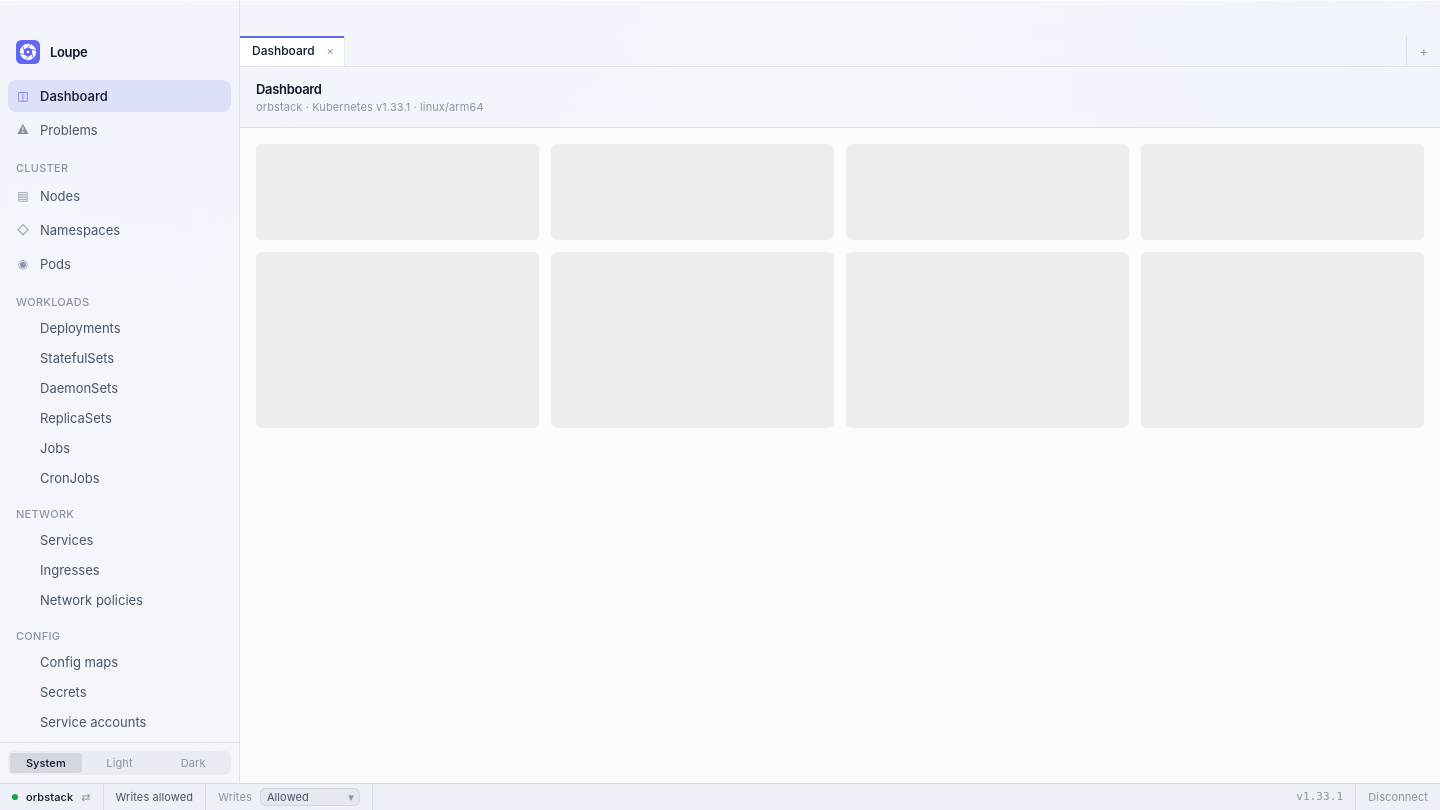
Test: App dashboard › comes back from the rail and from the palette
Expected: the heading "Dashboard" is shown, [256, 81, 322, 97]
Click the button "◉ Pods" at (120, 264), box [8, 248, 231, 280]
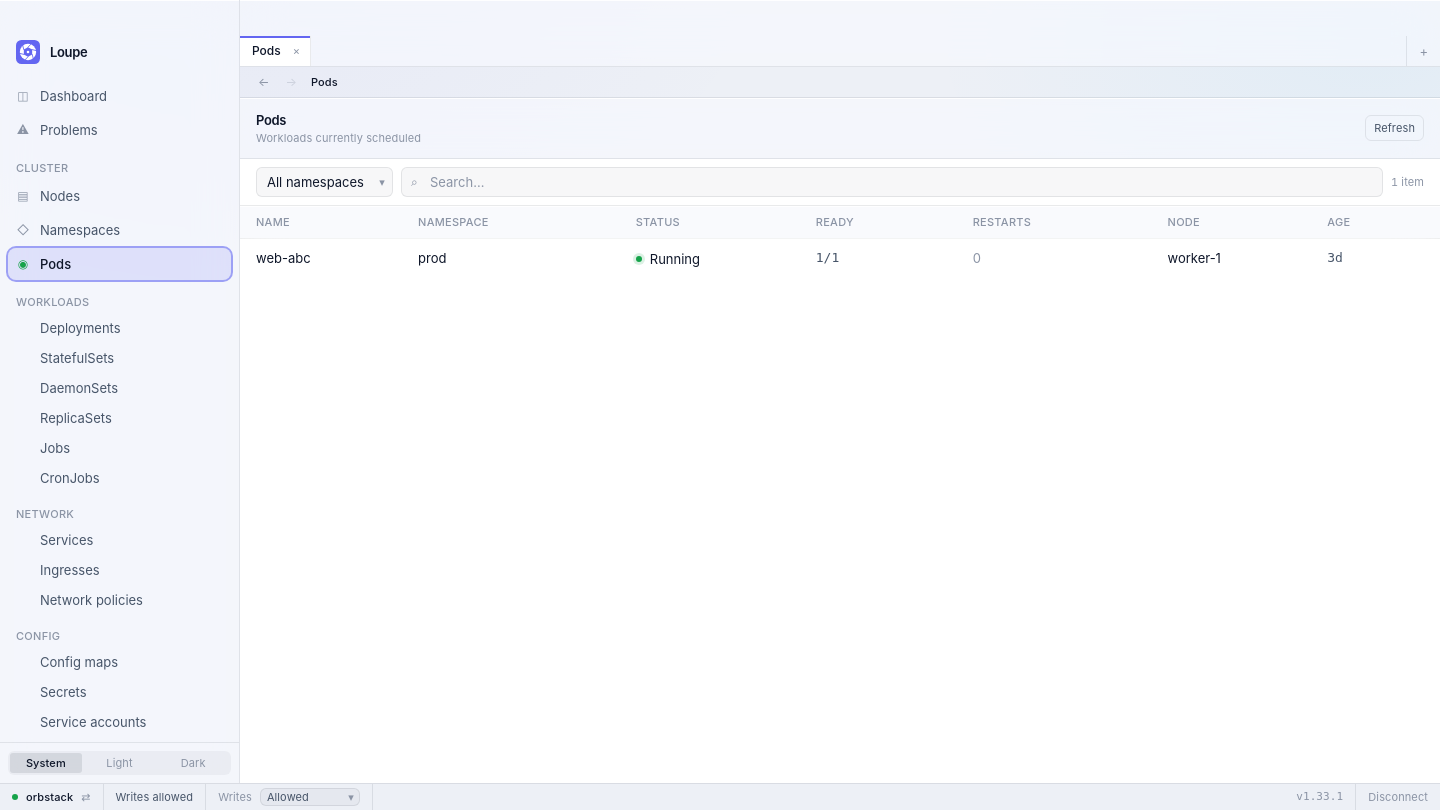
Now the heading "Pods" is shown, box [256, 112, 286, 128]
Click the button "◫ Dashboard" at (120, 96), box [8, 80, 231, 112]
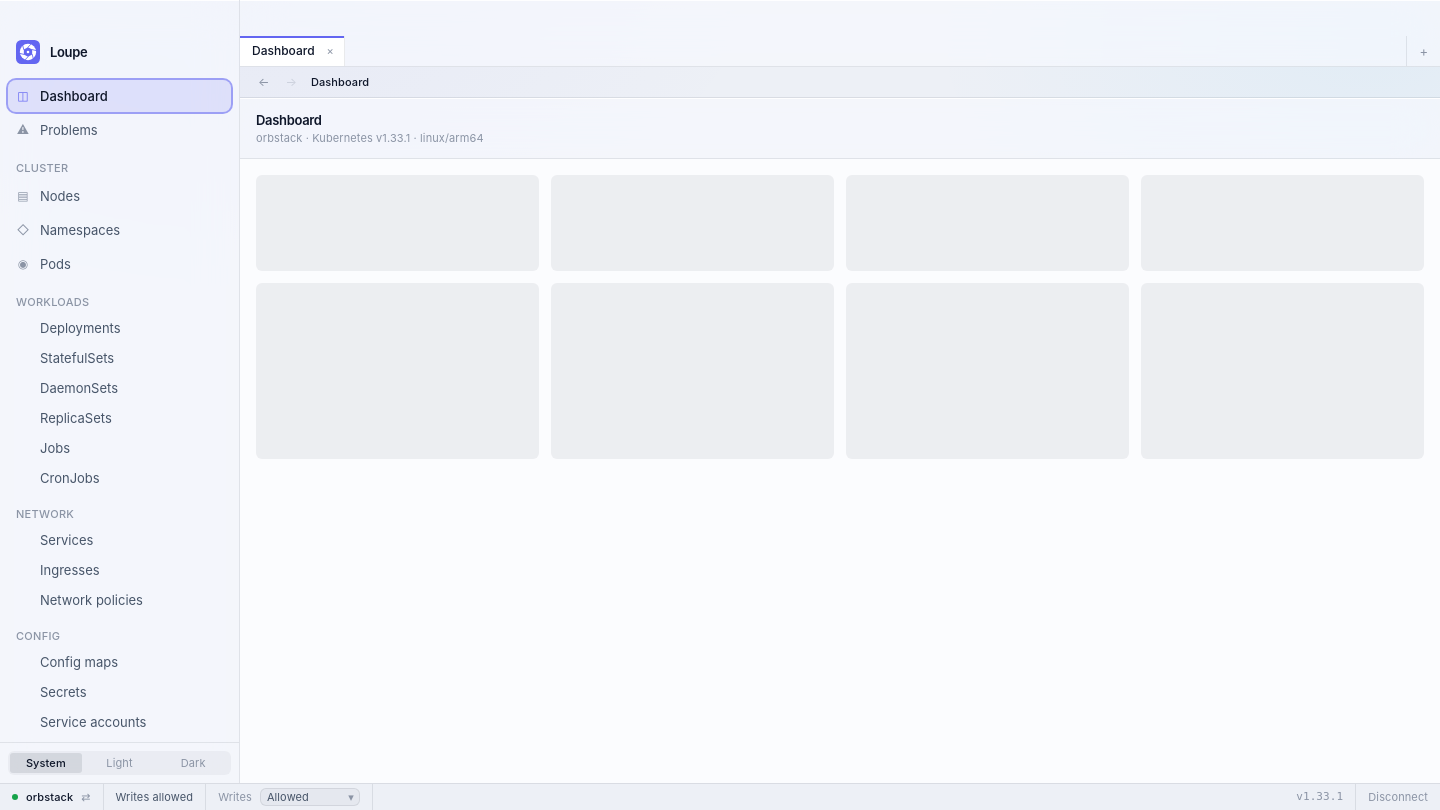
Now the heading "Dashboard" is shown, box [256, 112, 322, 128]
Click the button "◉ Pods" at (120, 264), box [8, 248, 231, 280]
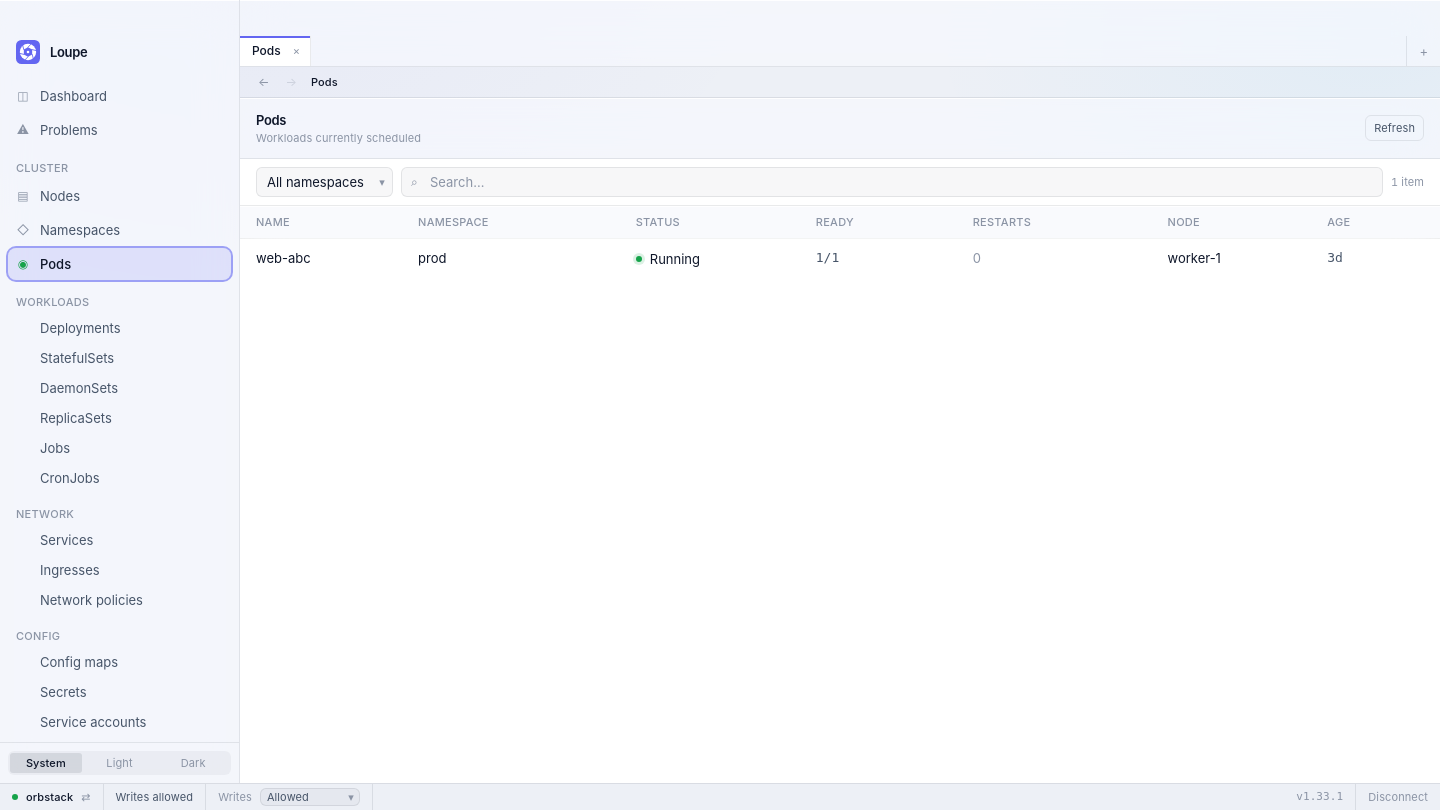
Type keys "{Meta>}k{/Meta}"
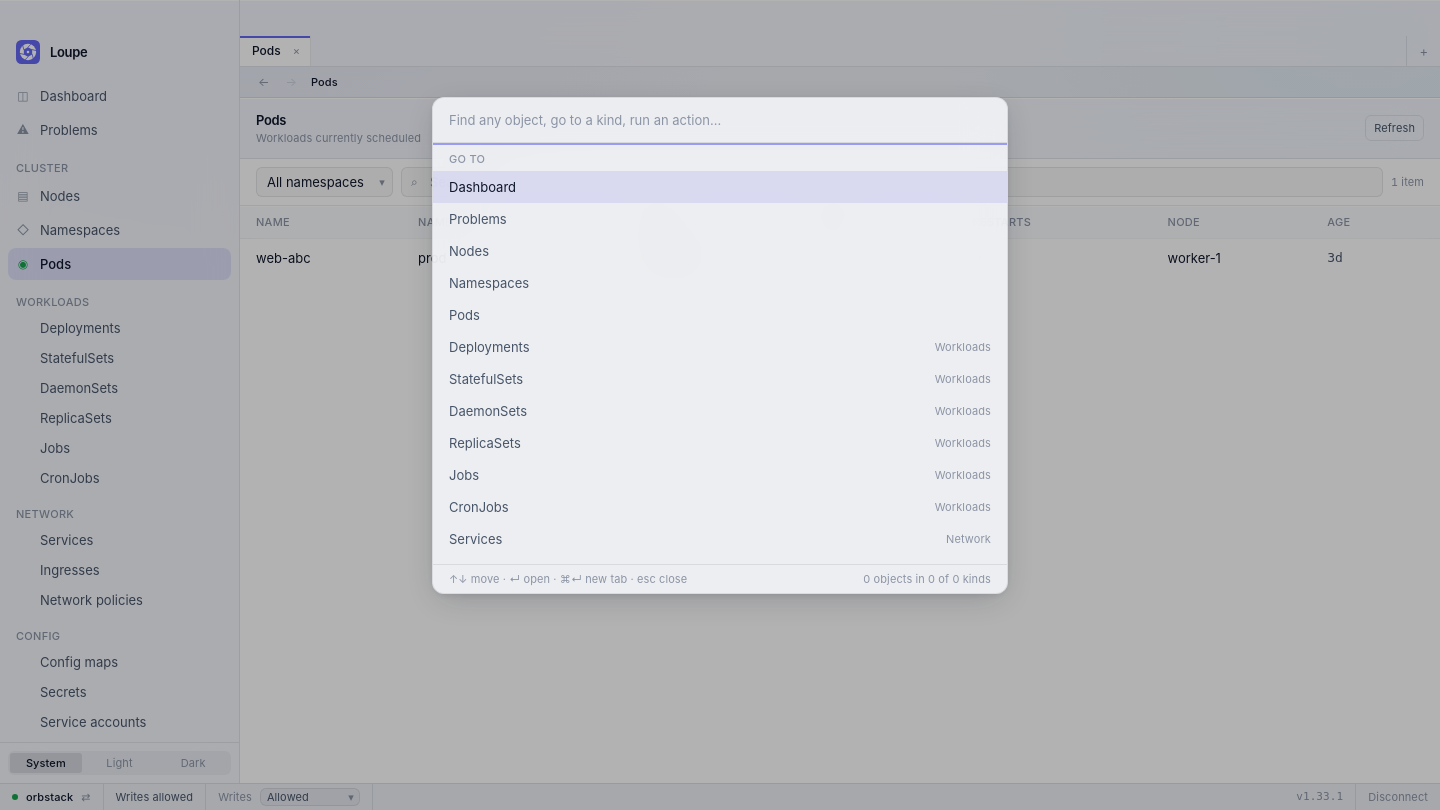
Type "capacity" into the field named "Command" at (720, 121), box [433, 98, 1007, 143]
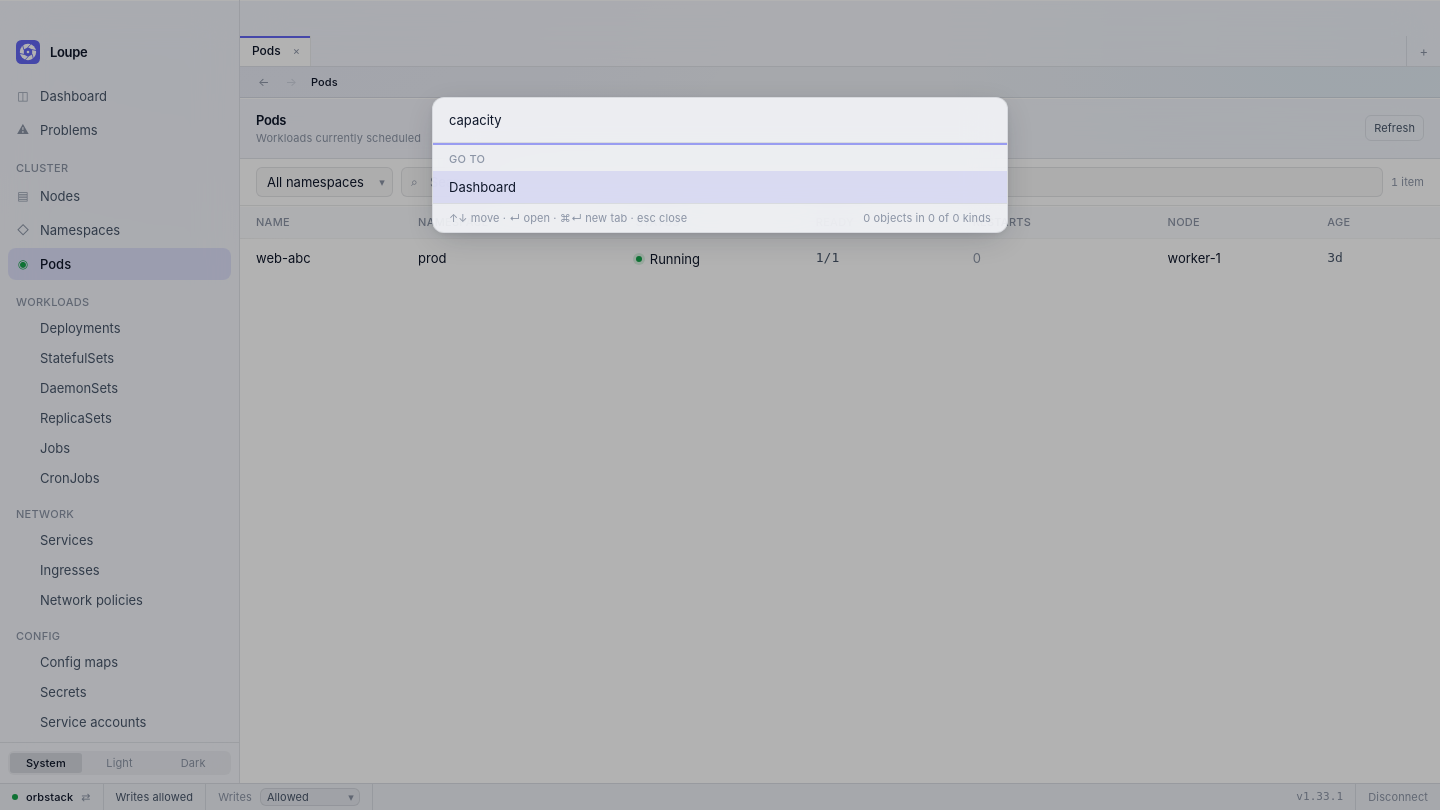
Press Enter
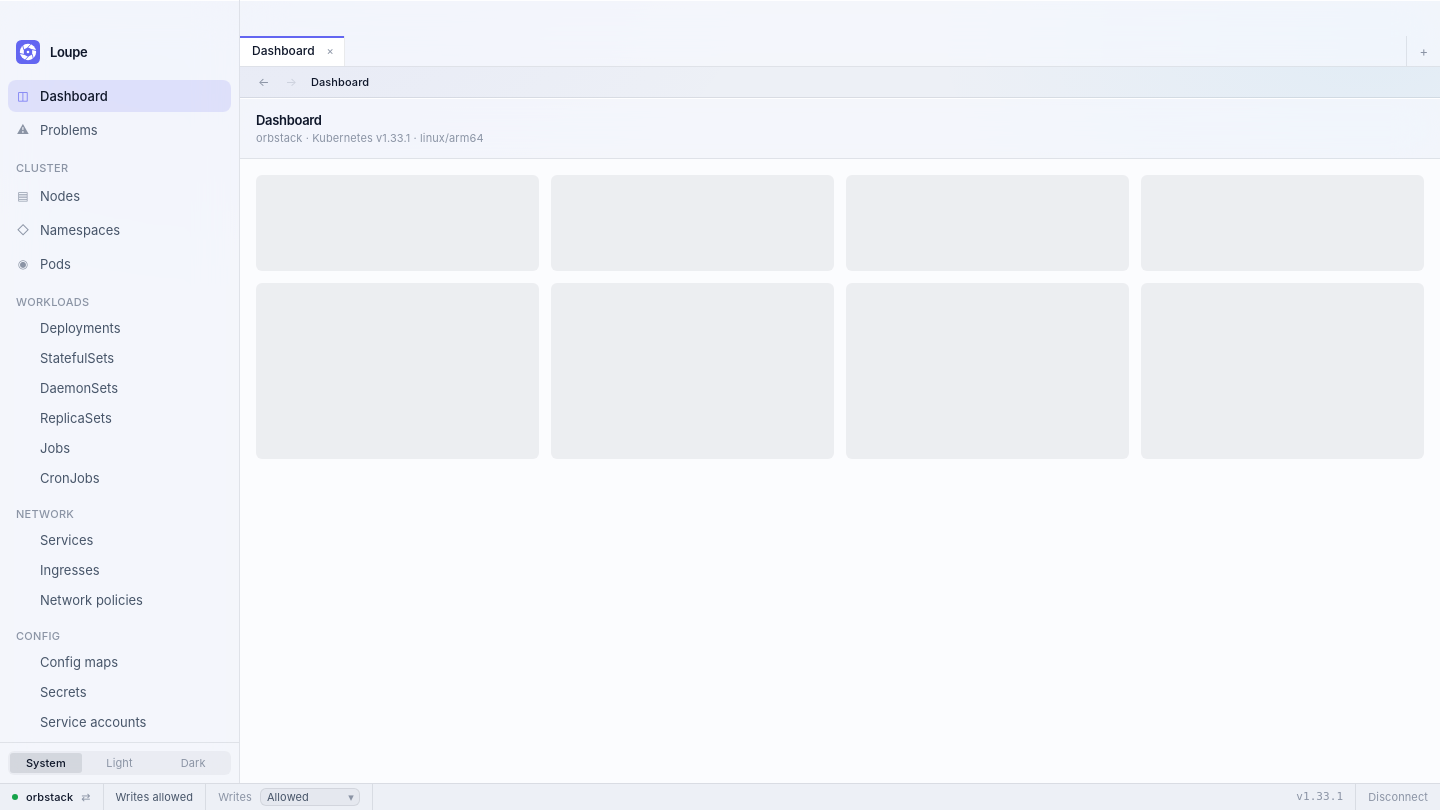
Now the heading "Dashboard" is shown, box [256, 112, 322, 128]
